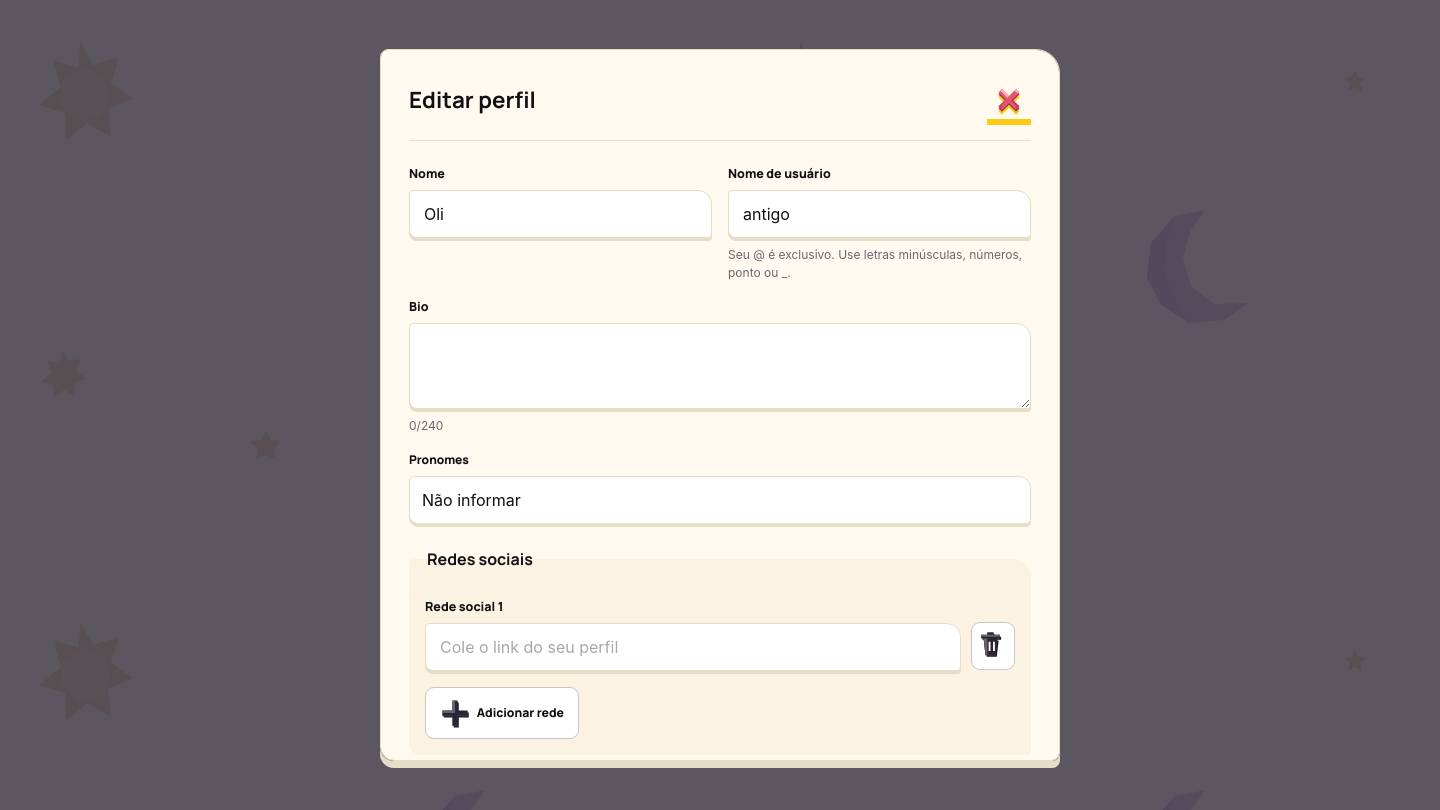
Test case: conflito no servidor preserva o perfil e deixa o rascunho disponível
The image size is (1440, 810).
Replace the text in the field labelled "Nome de usuário" with "ocupado" at (880, 214), box [728,190,1031,238]
(page scrolled)
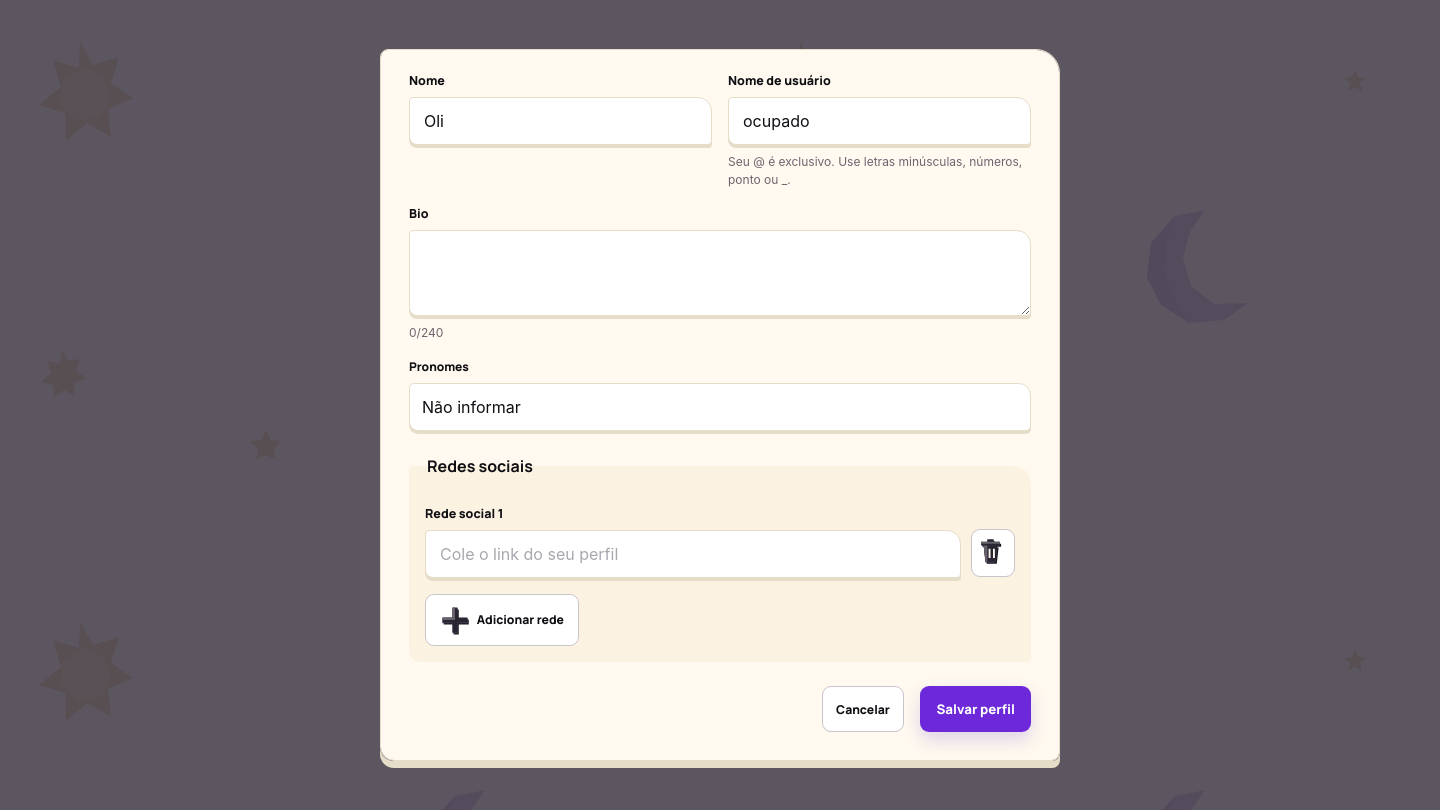
Click the button "Salvar perfil" at (976, 709), box [920,686,1031,732]
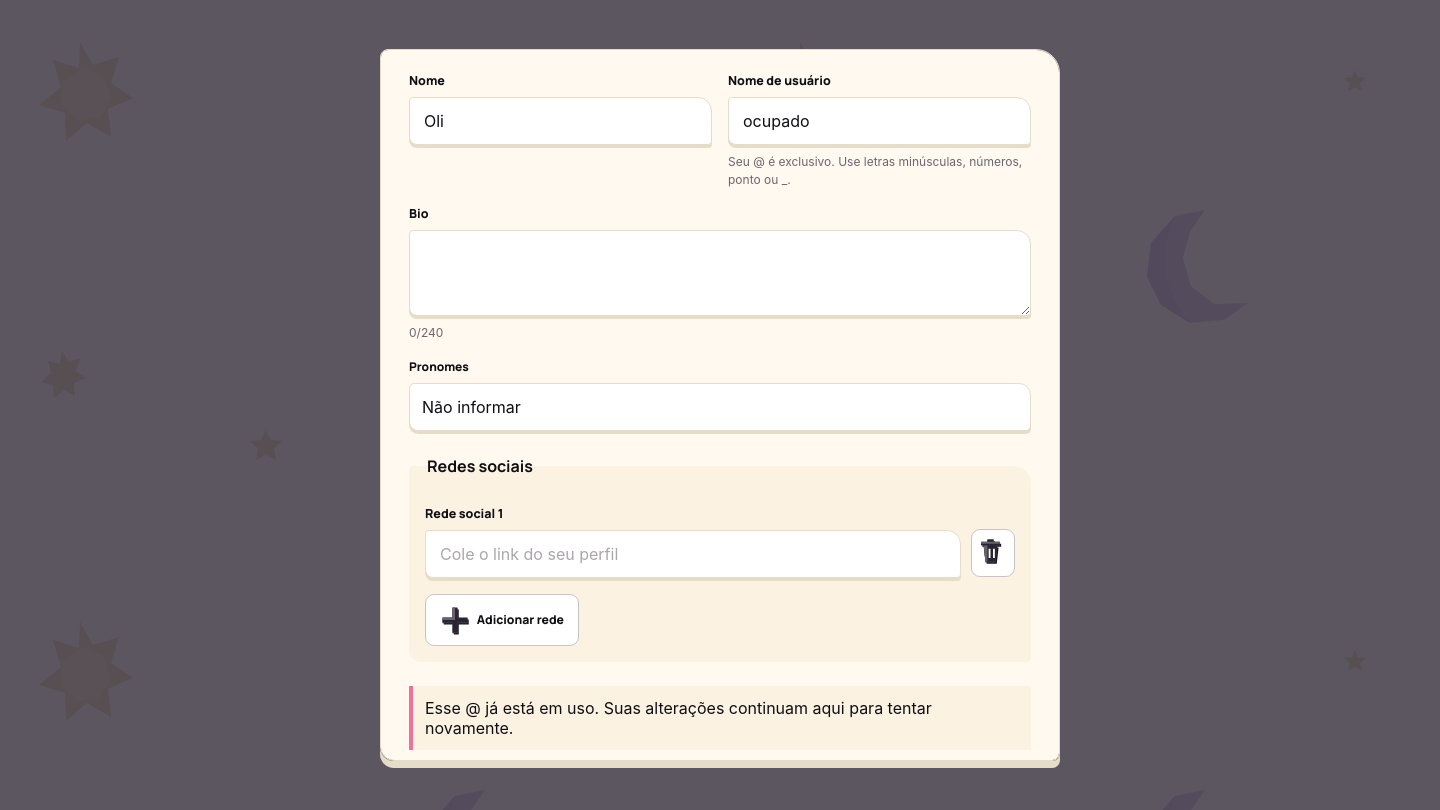
Now the message shows "já está em uso", box [425,698,932,738]
